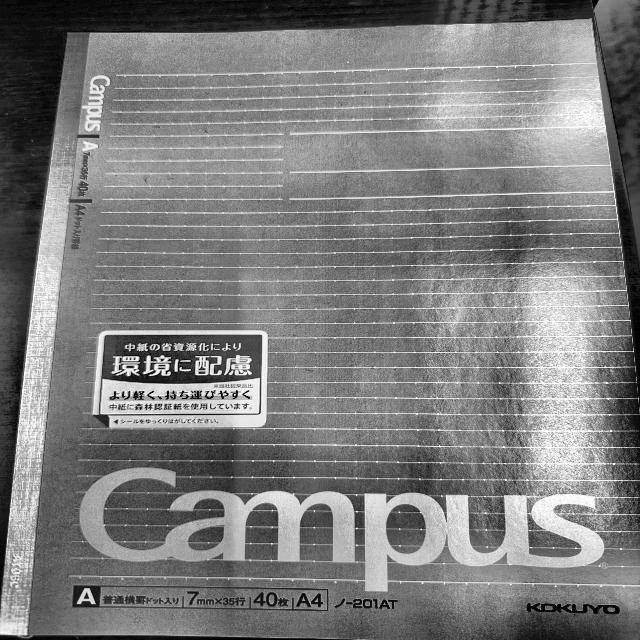Notebook: (7, 24, 640, 640)
